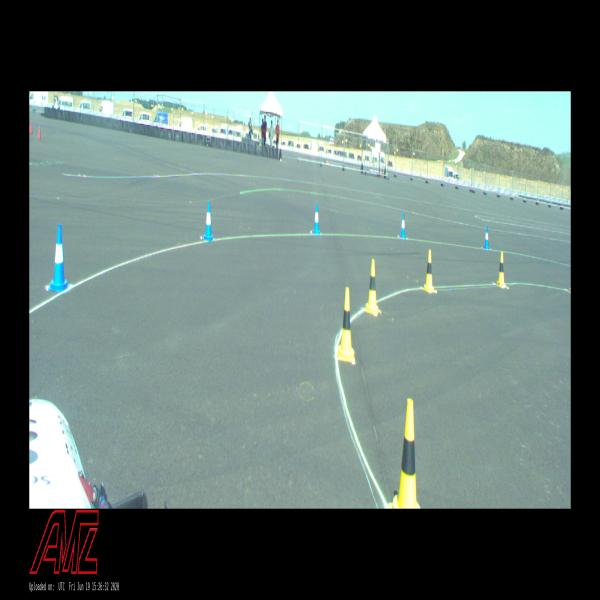blue_cone: (48, 224, 70, 291), (202, 201, 213, 241), (312, 204, 320, 235), (400, 212, 406, 238), (484, 226, 489, 249)
unknown_cone: (38, 126, 41, 139), (30, 123, 33, 134)
yellow_cone: (388, 398, 420, 508), (337, 287, 355, 361), (365, 260, 379, 314), (423, 250, 435, 293), (496, 252, 507, 288)
